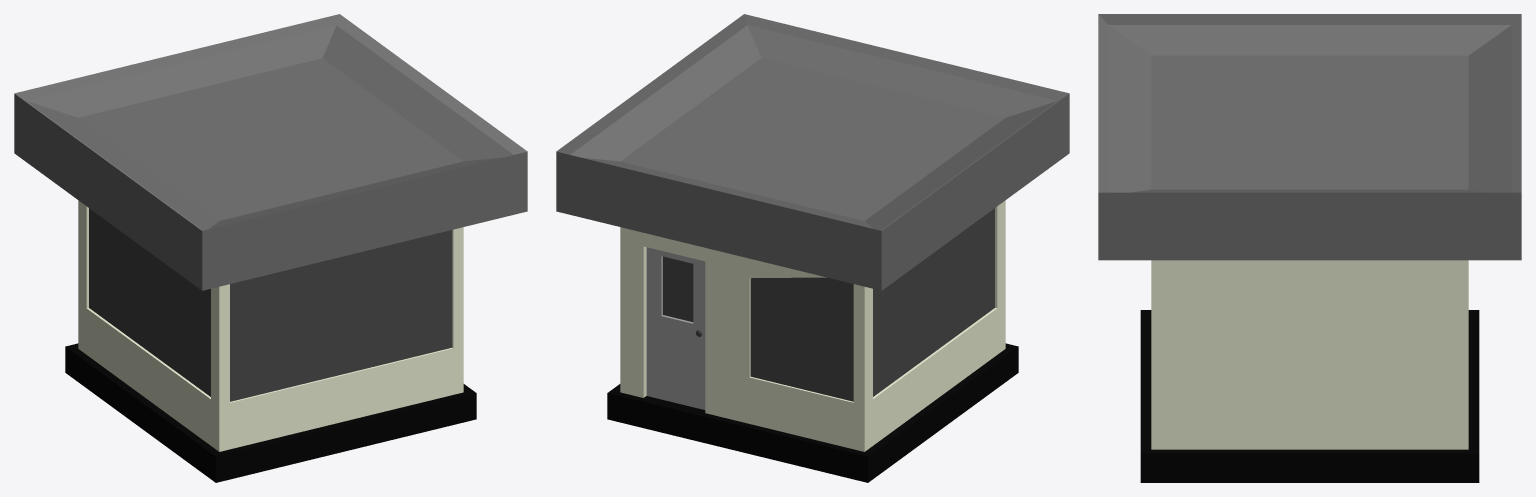
File: budka.fbx
3 renders of one model, left to right at view 1: azimuth 30°, elevation 25°; view 2: azimuth 150°, elevation 25°; view 3: azimuth 270°, elevation 25°, orthographic. The views are drawn at different scales.
Parts seen in each view (by area): view 1: Cube; view 2: Cube; view 3: Cube.
Part boxes in pixels (left/top/right/bottom): Cube: left=14, top=14, right=527, bottom=482; Cube: left=556, top=14, right=1069, bottom=482; Cube: left=1098, top=14, right=1521, bottom=482.
Bounding box in the file's own units: 824 × 661 × 824.
